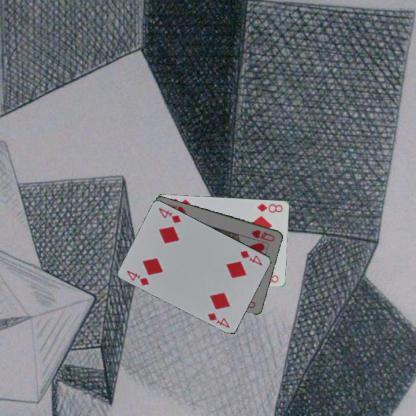4d: (237, 247, 265, 267), (124, 268, 151, 288)
8d: (254, 201, 284, 214)
Qh: (249, 227, 276, 243)
